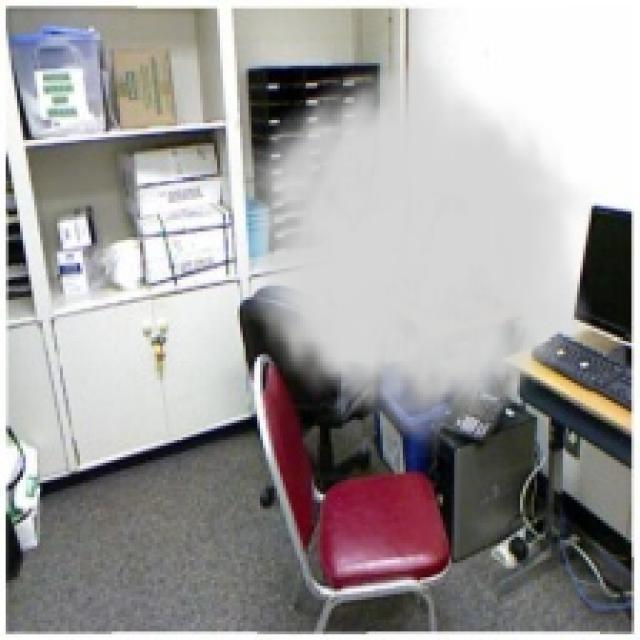Smoke: (226, 42, 592, 458)
